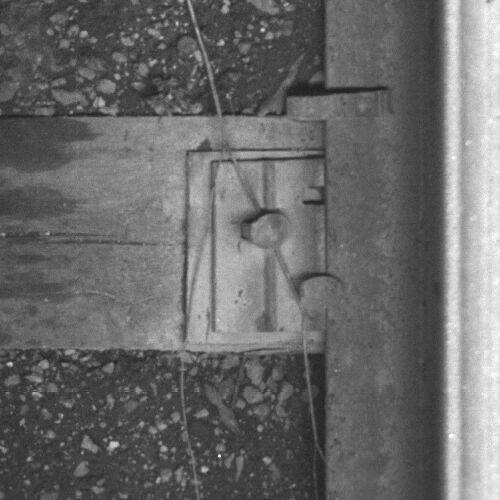crutch: (286, 87, 394, 121)
do: (212, 156, 345, 333)
rail: (442, 1, 500, 500)
tie_wood: (1, 117, 323, 350)
wood_crack: (1, 224, 165, 255)
